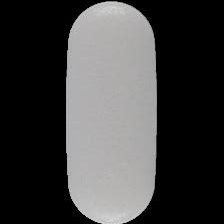0615-8061: (0, 0, 224, 224)
